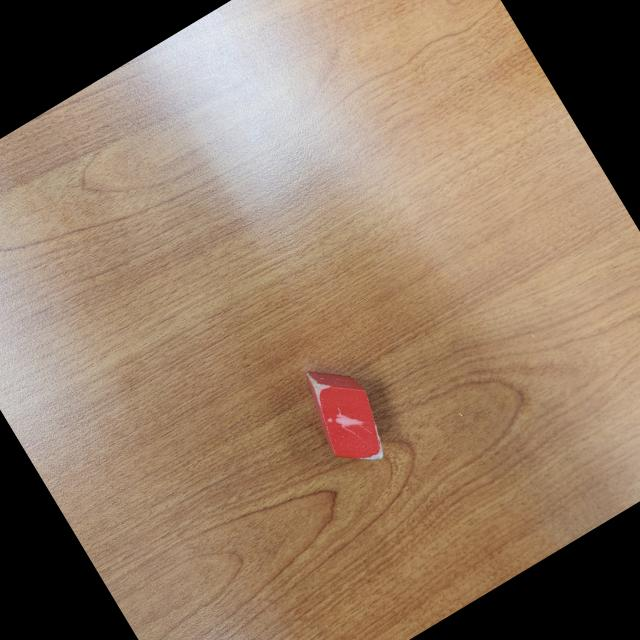broken: (291, 350, 404, 483)
